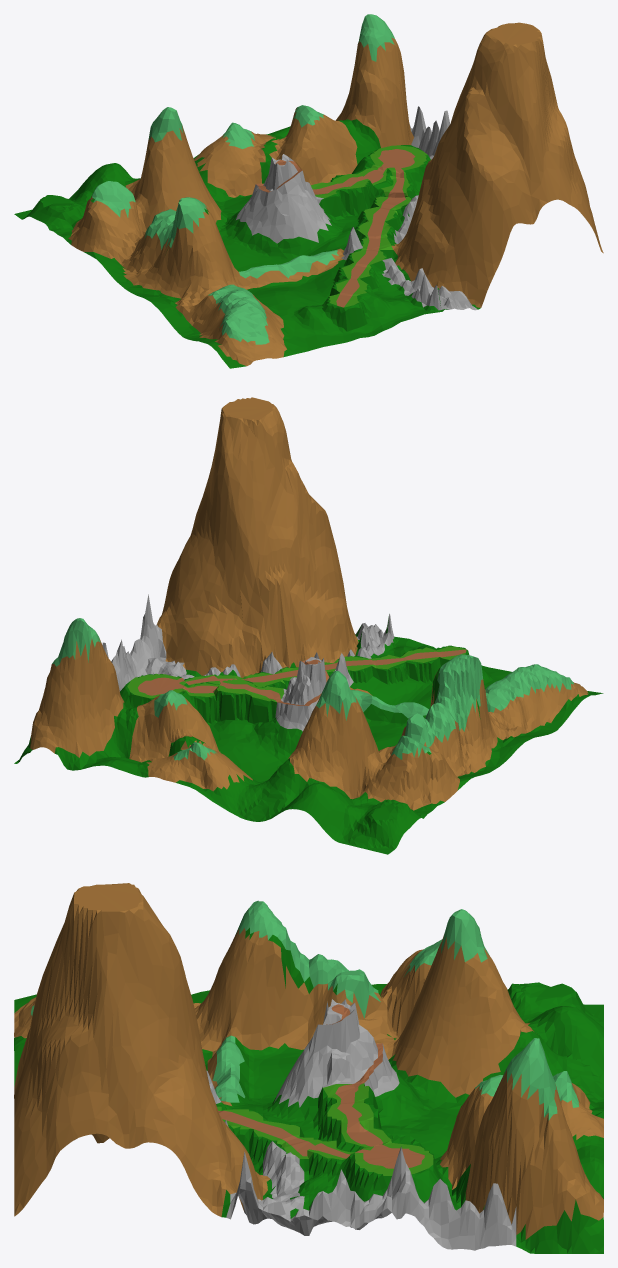
Rendered from terrain.fbx.
3 renders of one model, top to bottom at view 1: azimuth 30°, elevation 25°; view 2: azimuth 150°, elevation 25°; view 3: azimuth 270°, elevation 25°, orthographic. The views are drawn at different scales.
Parts seen in each view (by area): view 1: Terrain; view 2: Terrain; view 3: Terrain.
Boxes of the visible parts, x1,y1,x2,y2 form: Terrain: (14, 14, 603, 368); Terrain: (14, 397, 603, 854); Terrain: (14, 883, 603, 1253).
Size of the model in its own units: 100044 by 60017 by 100058.
